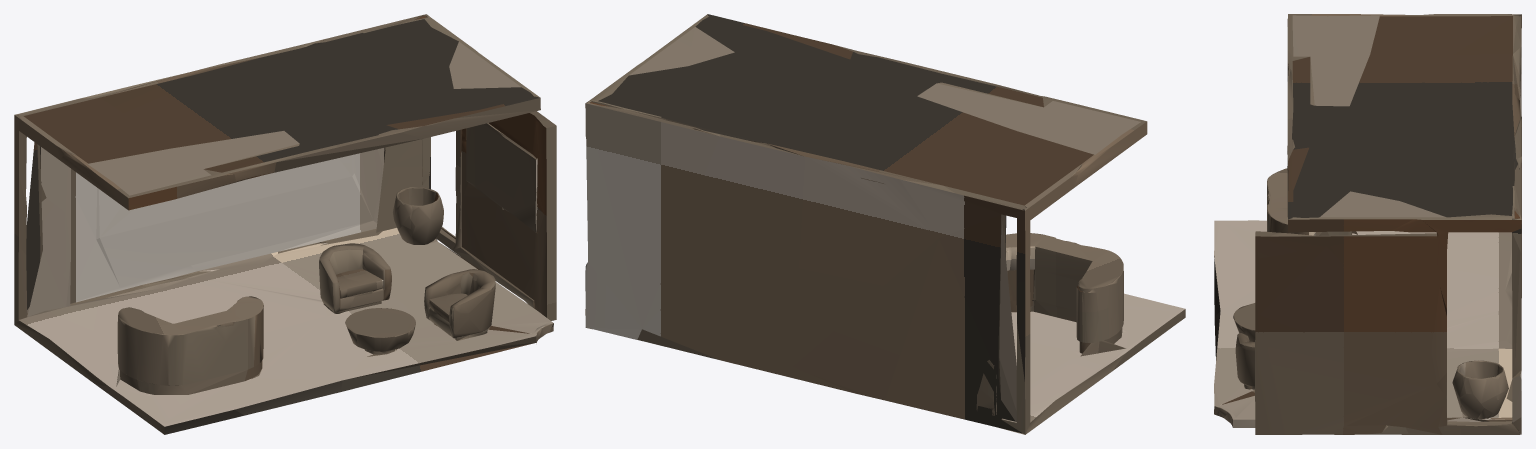
The model's file is booth_lux.glb.
3 views of the same model, side by side, from view 1: azimuth 30°, elevation 25°; view 2: azimuth 150°, elevation 25°; view 3: azimuth 270°, elevation 25° (orthographic). The views are drawn at different scales.
Visible parts, largest first — view 1: LO; view 2: LO; view 3: LO.
Boxes of the visible parts, left/top/right/bottom form: LO: left=14, top=14, right=556, bottom=434; LO: left=585, top=14, right=1185, bottom=434; LO: left=1214, top=14, right=1521, bottom=434.
Bounding box in the file's own units: 8 × 3.91 × 5.05.
1 material, 1 textured.
